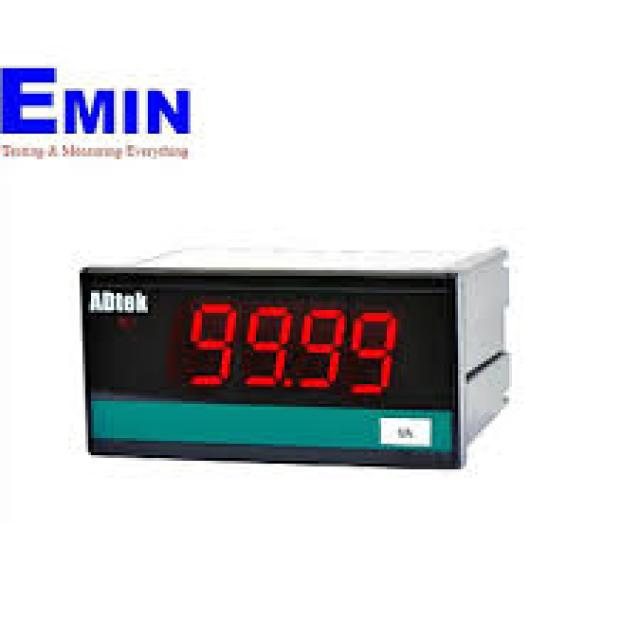9: (354, 302, 409, 406), (177, 300, 239, 388), (301, 306, 353, 401), (248, 302, 296, 395)
screen: (172, 300, 406, 401)
